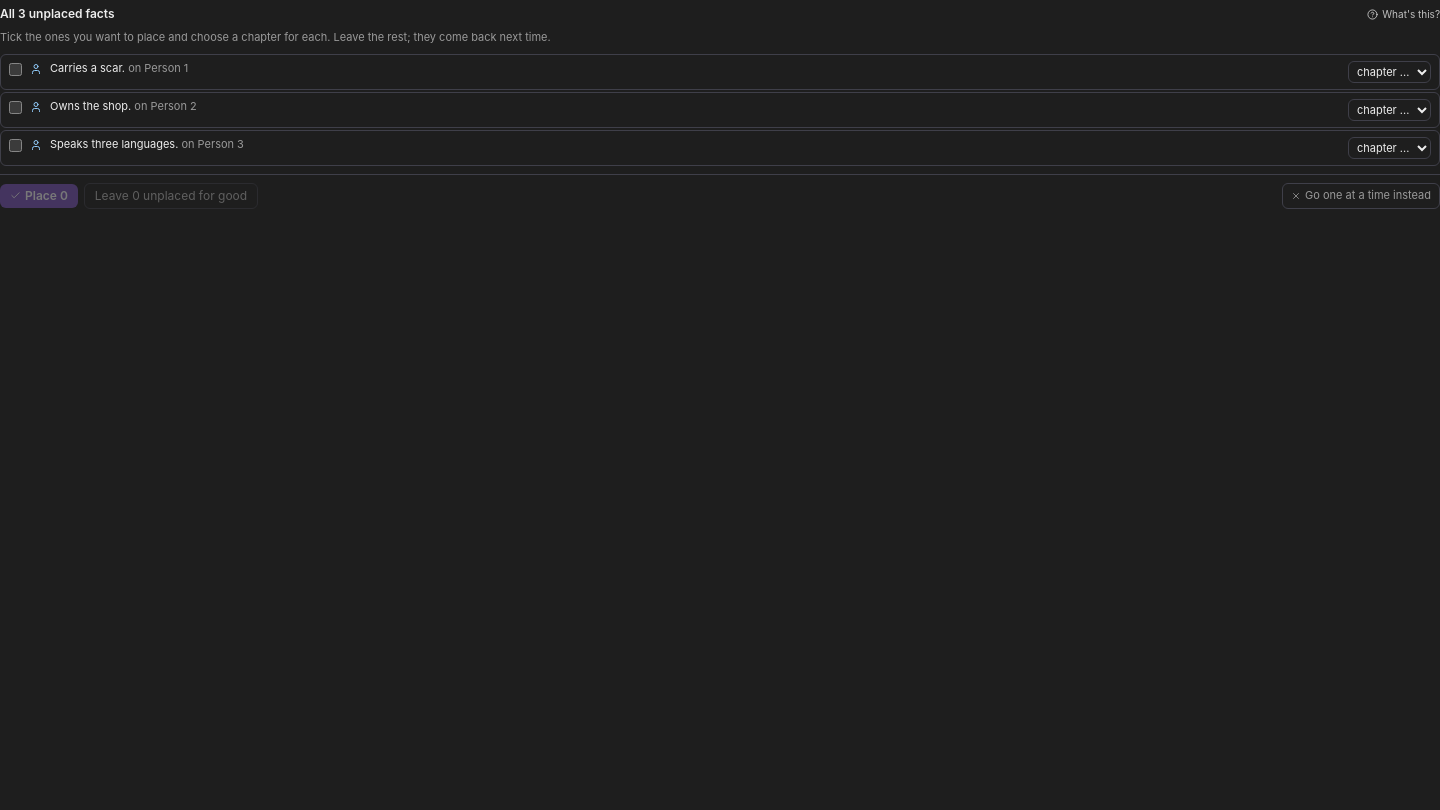
Scenario: the unplaced list › treats choosing a chapter as the intent to place it
Select "North" in the dropdown named "Chapter for Carries a scar." at [1390, 72], box x1=1348 y1=61 x2=1431 y2=83
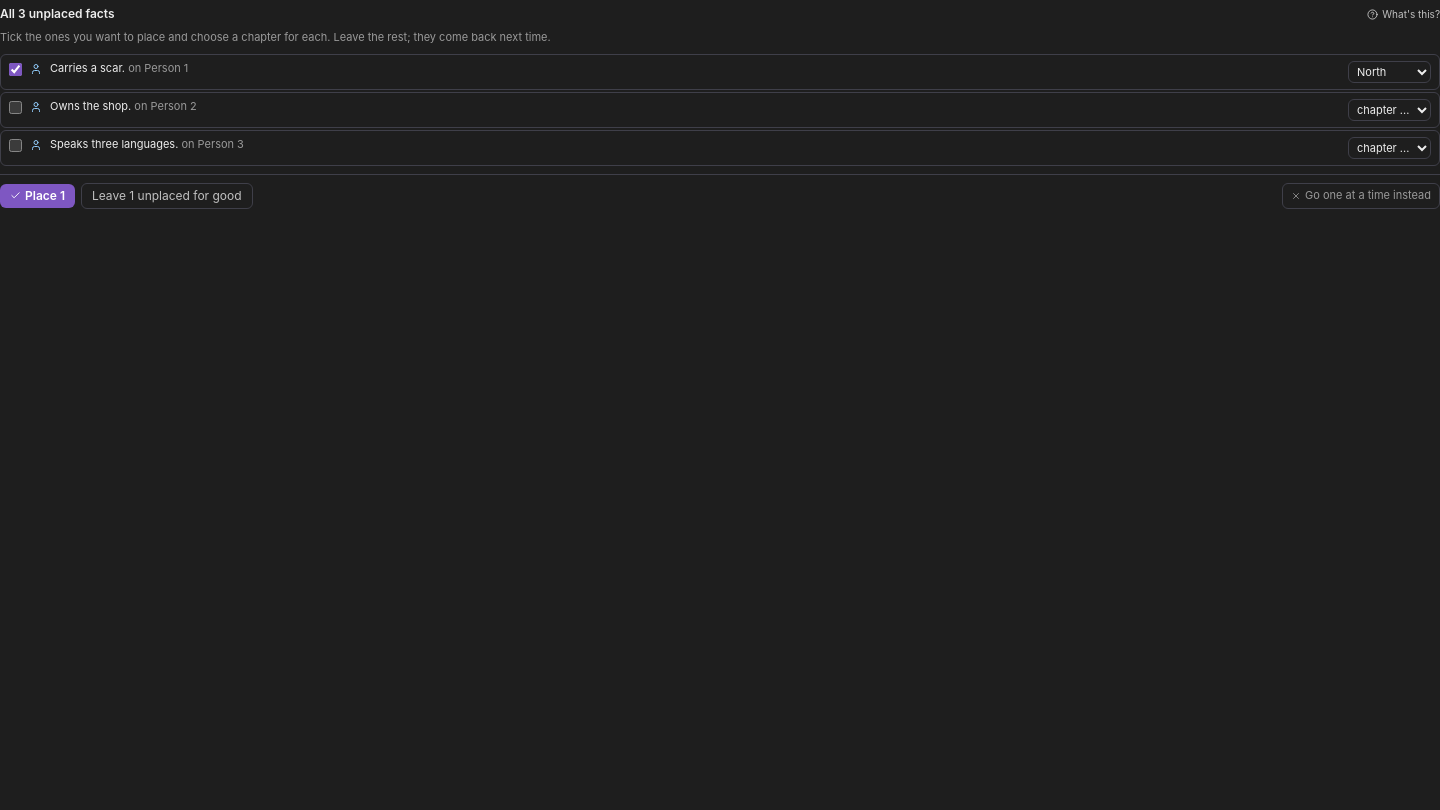
Result: the checkbox named "Carries a scar." is checked at x1=9 y1=63 x2=22 y2=76
Result: the button with test id "sweep-place" reads "Place 1" at x1=0 y1=184 x2=75 y2=208
